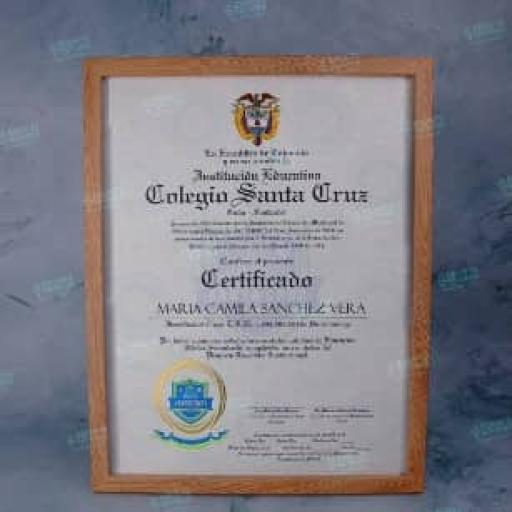diploma: (98, 77, 416, 480)
escudo: (226, 82, 296, 144)
institucion: (124, 163, 386, 214)
nombre: (148, 296, 375, 322)
